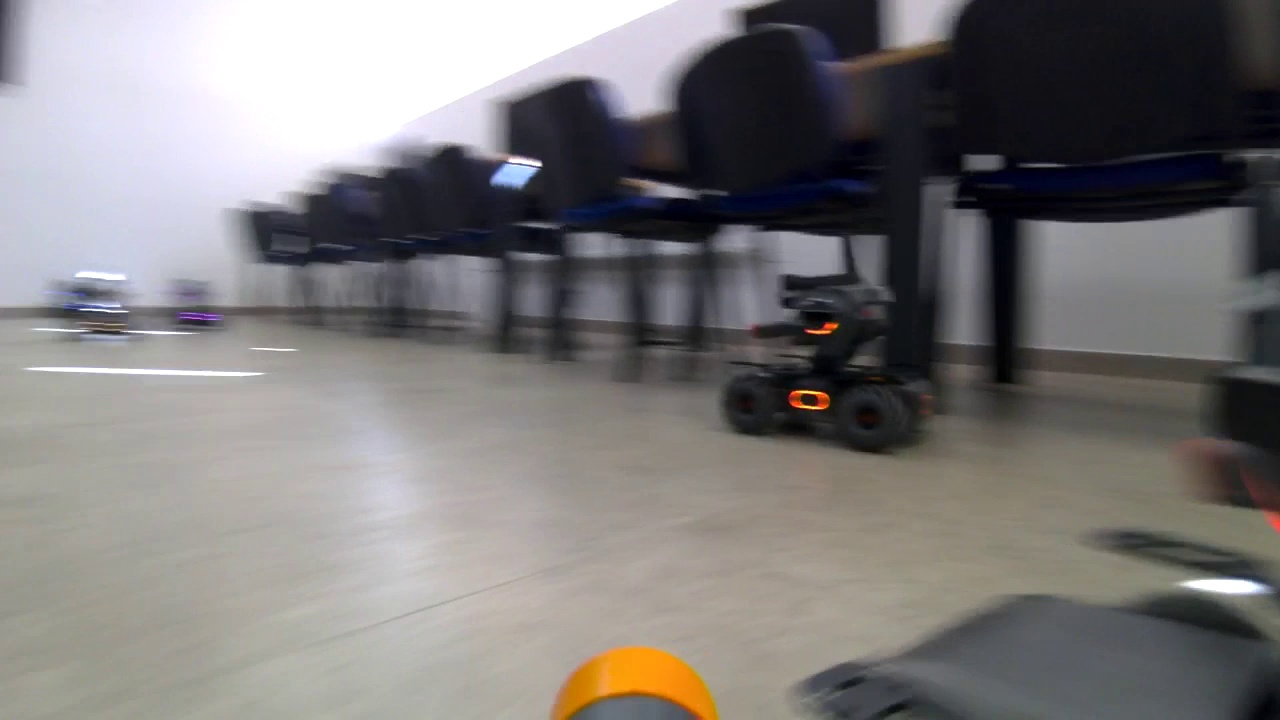robot: (727, 274, 923, 452)
